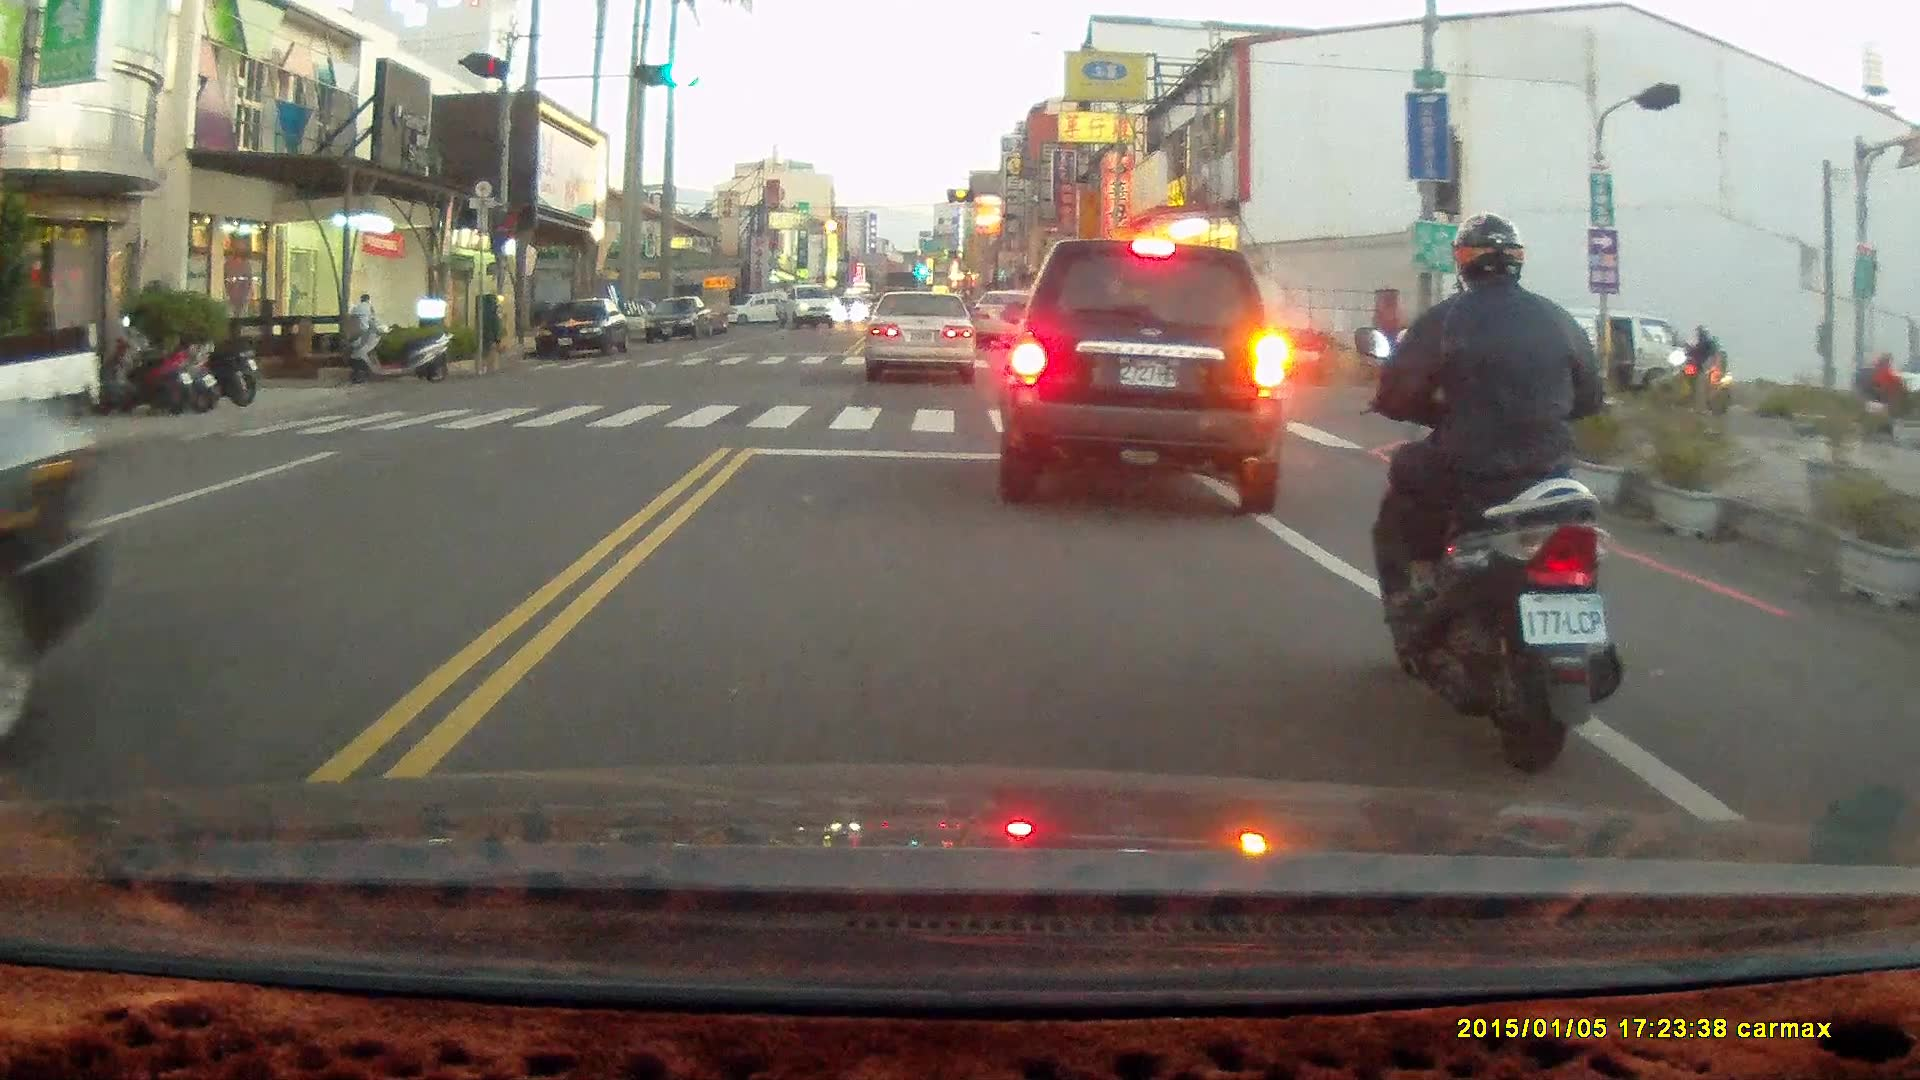pedestrian: (348, 292, 379, 359), (1607, 321, 1630, 393)
rider: (1344, 211, 1620, 773), (1653, 320, 1726, 414), (1845, 351, 1915, 437)
vehicle: (999, 238, 1283, 519), (1, 381, 112, 748), (1499, 308, 1698, 408), (863, 293, 976, 389), (532, 299, 631, 360), (636, 295, 714, 343), (774, 284, 837, 334)
